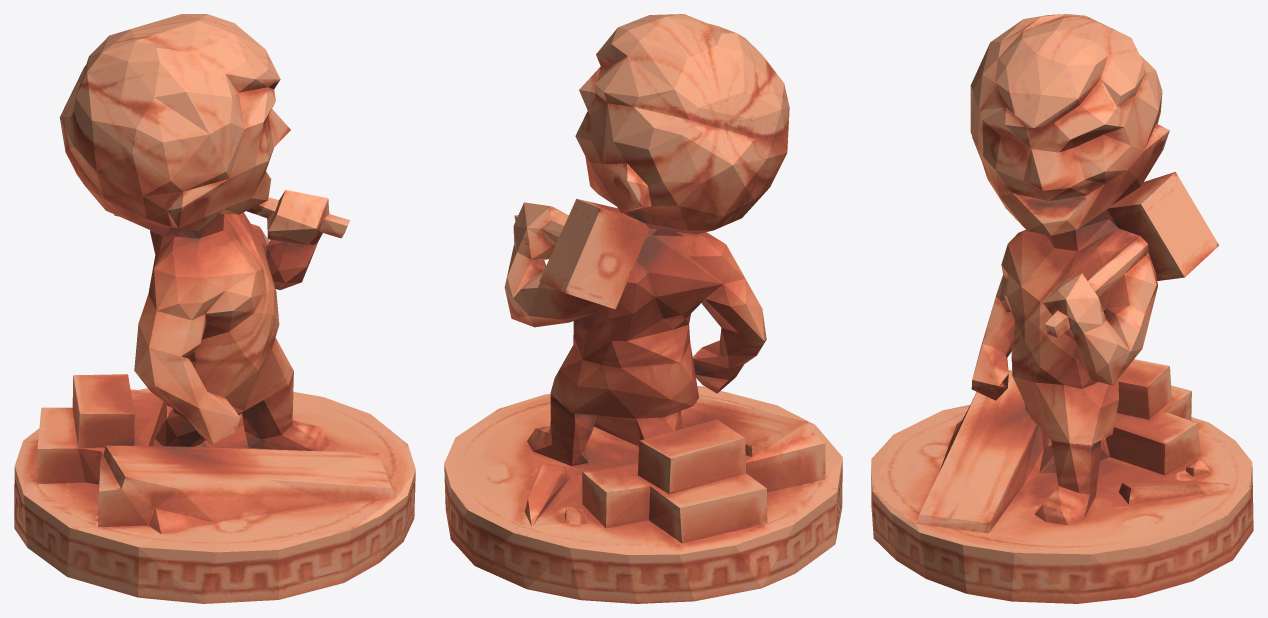
File: worker_orange_0.obj
3 renders of one model, left to right at view 1: azimuth 30°, elevation 25°; view 2: azimuth 150°, elevation 25°; view 3: azimuth 270°, elevation 25°, orthographic. The views are drawn at different scales.
Visible parts, largest first — view 1: MaleBuilder; view 2: MaleBuilder; view 3: MaleBuilder.
Part boxes in pixels (<box>): MaleBuilder: <box>14,14,415,603</box>; MaleBuilder: <box>444,14,842,603</box>; MaleBuilder: <box>871,14,1253,603</box>.
Size of the model in its own units: 1.16 by 1.63 by 1.17.
1 material, 1 textured.
